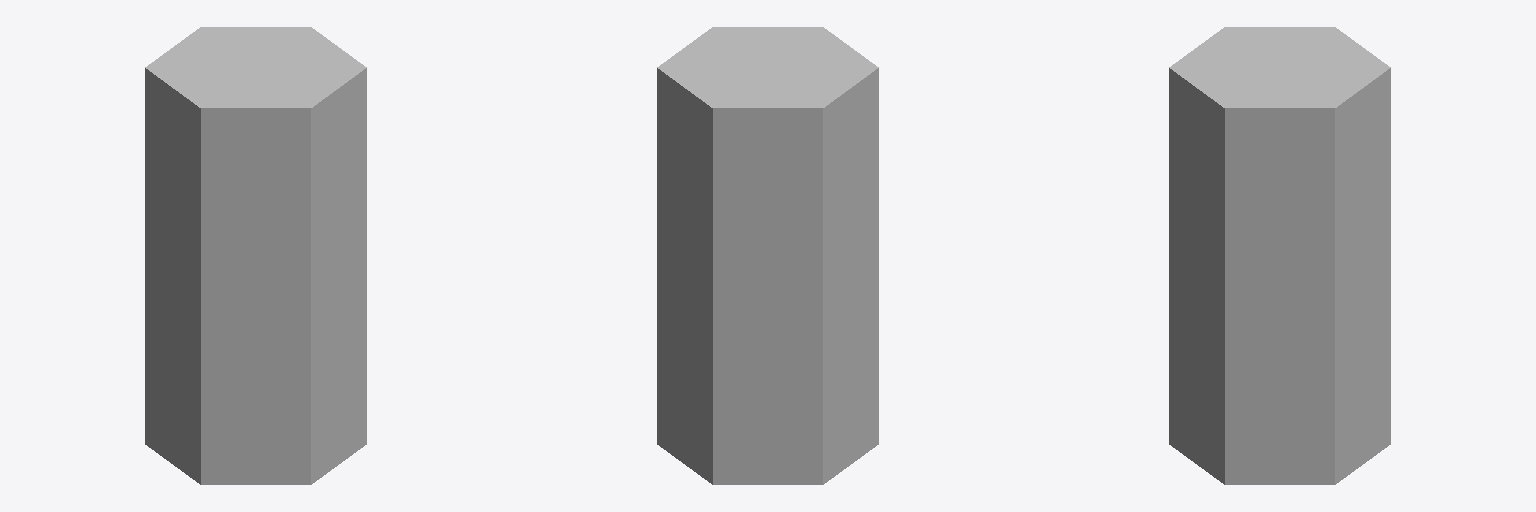
The model's file is placeholderLongHex.obj.
3 renders of one model, left to right at view 1: azimuth 30°, elevation 25°; view 2: azimuth 150°, elevation 25°; view 3: azimuth 270°, elevation 25°, orthographic.
Visible parts, largest first — view 1: Cylinder; view 2: Cylinder; view 3: Cylinder.
Part boxes in pixels (x1,y1,x2,y2): Cylinder: (145,27,366,484); Cylinder: (657,27,878,484); Cylinder: (1169,27,1390,484).
Bounding box in the file's own units: 1.73 × 3.75 × 2.